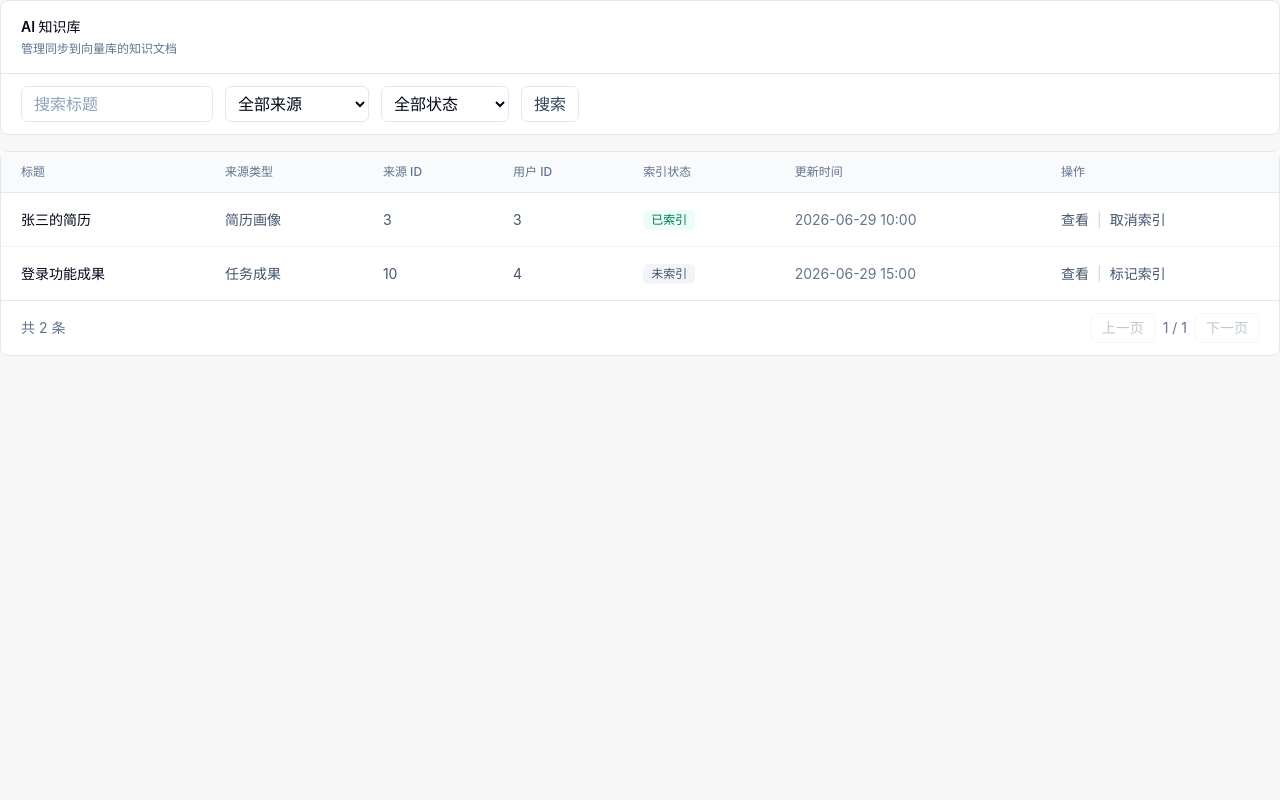
Scenario: KnowledgeView › loads document detail when clicking view
The image size is (1280, 800).
Click the button "查看" in the row of "简历画像" at (1075,220), box [1061,210,1089,230]
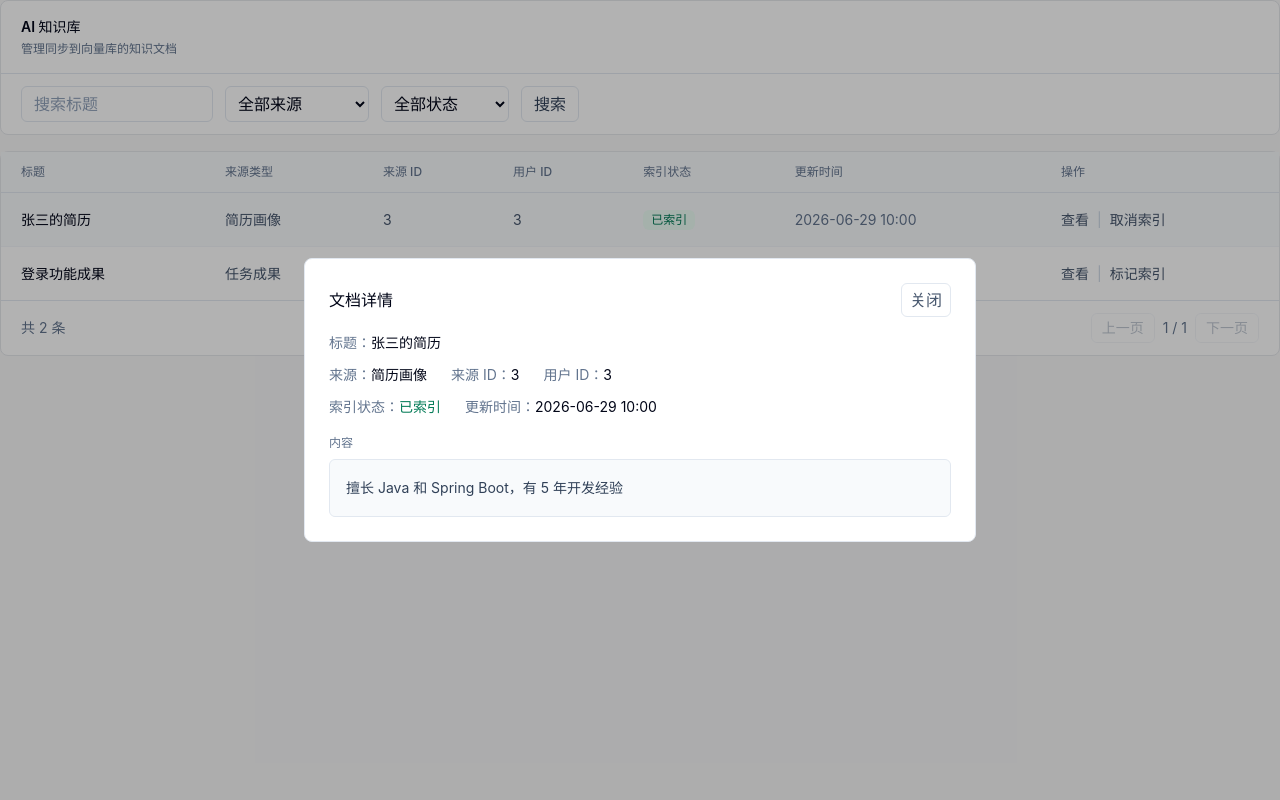
Check: the text "张三的简历" is shown, box [21,210,91,230]
Check: the text "文档详情" is shown, box [329,288,393,312]
Check: the text "擅长 Java 和 Spring Boot，有 5 年开发经验" is shown, box [329,459,951,517]
